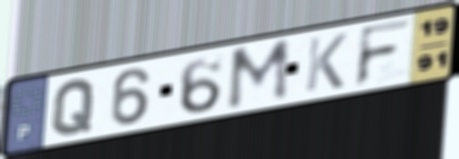6: (178, 54, 224, 116), (110, 66, 154, 127)
F: (352, 16, 415, 90)
K: (302, 31, 350, 95)
M: (225, 35, 294, 113)
Q: (49, 77, 98, 138)
